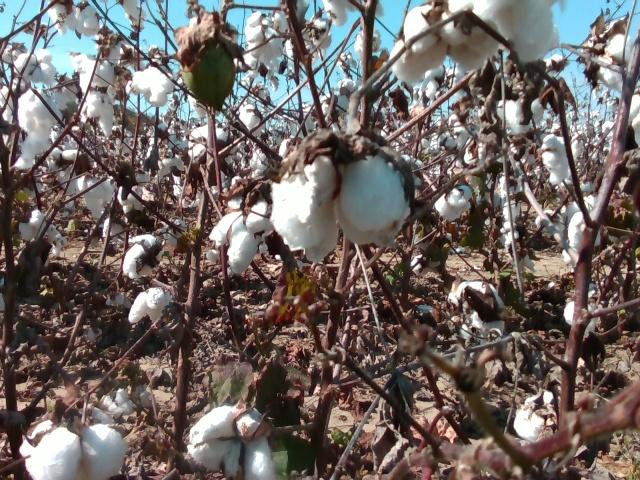cotton_ready: (271, 154, 411, 262), (390, 5, 501, 87), (445, 0, 563, 62), (20, 420, 126, 480), (188, 407, 273, 480), (209, 193, 271, 275), (16, 89, 65, 169), (583, 17, 634, 92), (182, 51, 235, 120), (449, 282, 506, 340), (285, 16, 332, 67), (513, 388, 556, 442), (565, 195, 602, 253), (565, 282, 600, 343), (245, 12, 284, 65), (496, 95, 546, 136), (123, 234, 163, 279), (130, 68, 175, 108), (90, 387, 136, 426), (76, 175, 116, 219), (127, 288, 173, 325), (94, 24, 133, 67), (13, 50, 58, 86), (48, 148, 81, 195), (540, 134, 571, 183), (433, 185, 473, 222), (188, 123, 227, 160), (86, 89, 113, 138), (273, 0, 310, 34), (438, 113, 471, 151), (0, 83, 19, 148), (79, 57, 113, 92), (46, 0, 79, 35), (51, 74, 80, 111), (325, 0, 361, 26), (73, 5, 101, 38), (334, 79, 360, 114), (18, 210, 46, 241), (354, 28, 381, 60), (239, 104, 264, 138), (121, 0, 146, 32), (118, 187, 145, 216), (535, 211, 566, 235), (157, 155, 185, 179), (0, 42, 29, 63), (629, 93, 640, 147)
